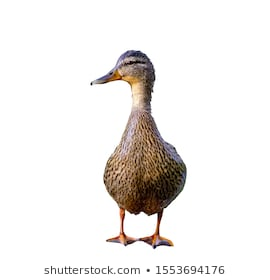duck: (41, 44, 213, 259)
